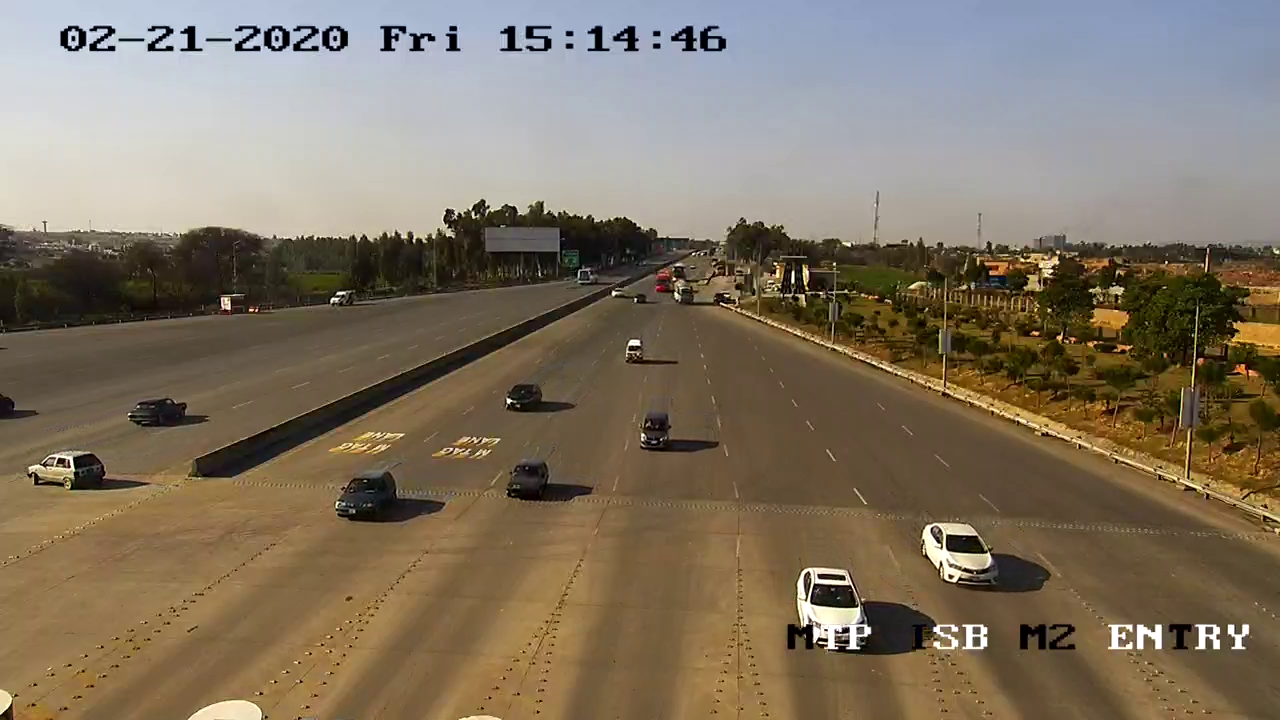f1: (912, 509, 1012, 595), (329, 457, 407, 532), (497, 451, 559, 509), (625, 401, 681, 462)
